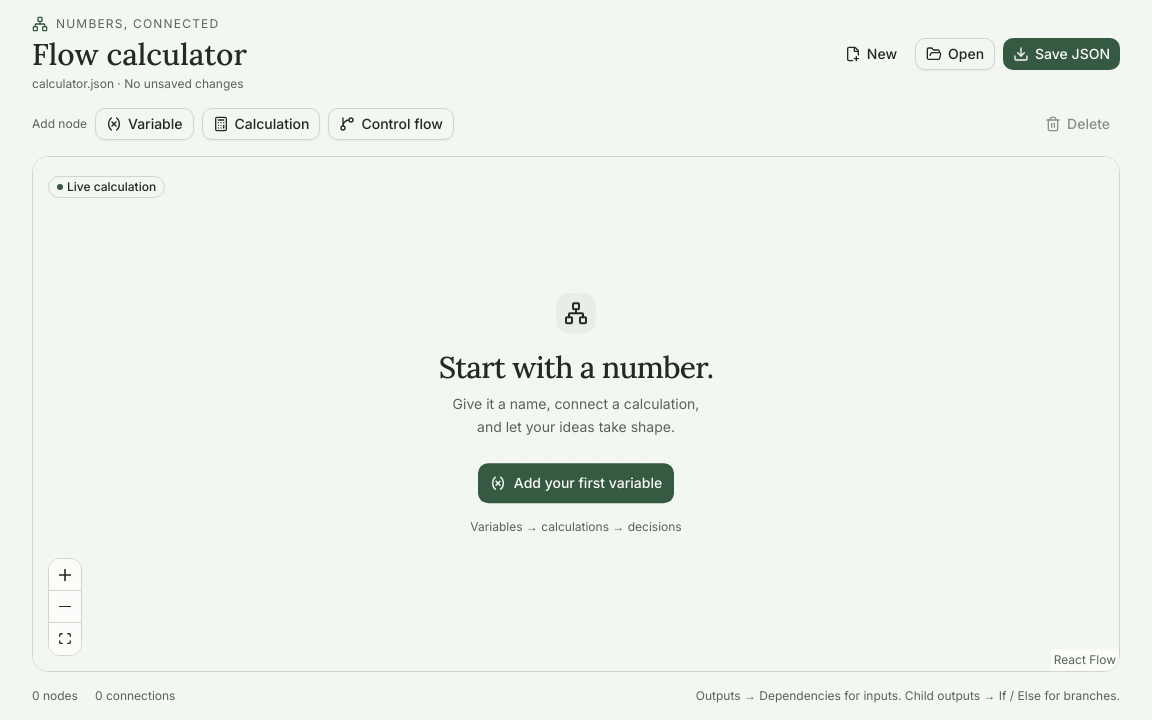
Test case: workspace user flows › offers Cancel, Discard, and Save and continue when creating a new workspace
The width and height of the screenshot is (1152, 720).
Click the button "Variable".
click(144, 124)  # box [95,108,194,140]
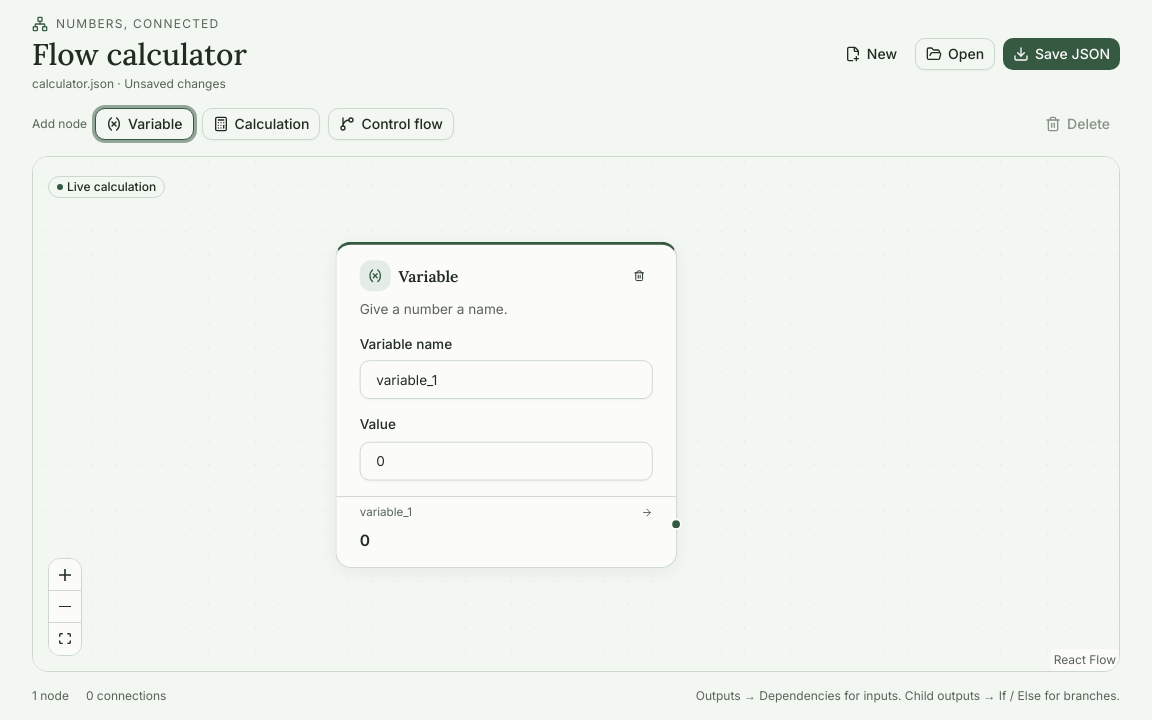
Click the button "New".
click(871, 54)  # box [835,38,907,70]
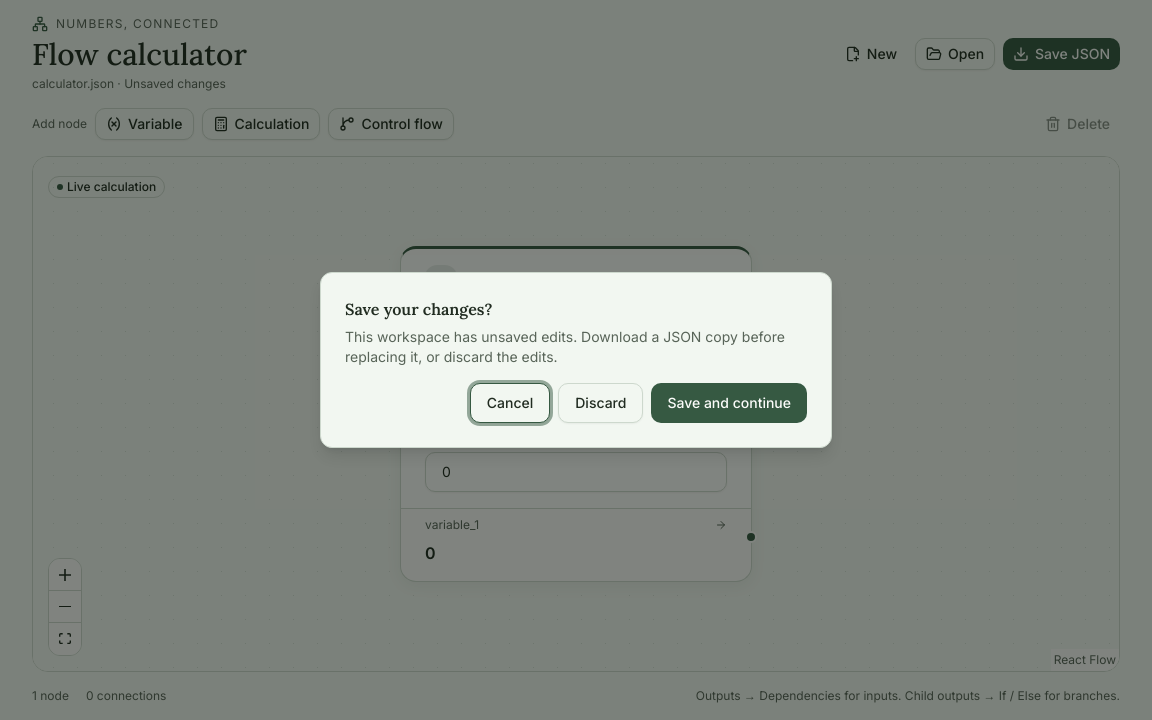
Now the dialog is shown, box [320,272,832,448]
Click the button "Cancel".
click(510, 403)  # box [470,383,550,423]
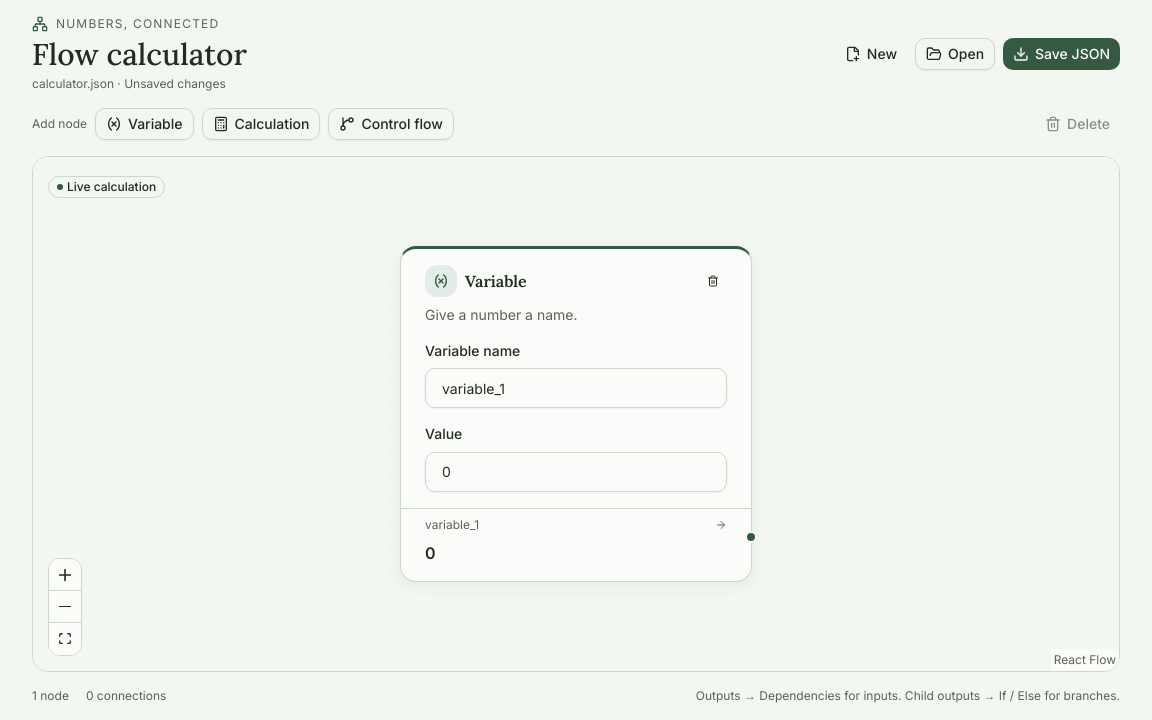
Now the field labelled "Variable name" is shown, box [425,368,727,408]
Click the button "New".
click(871, 54)  # box [835,38,907,70]
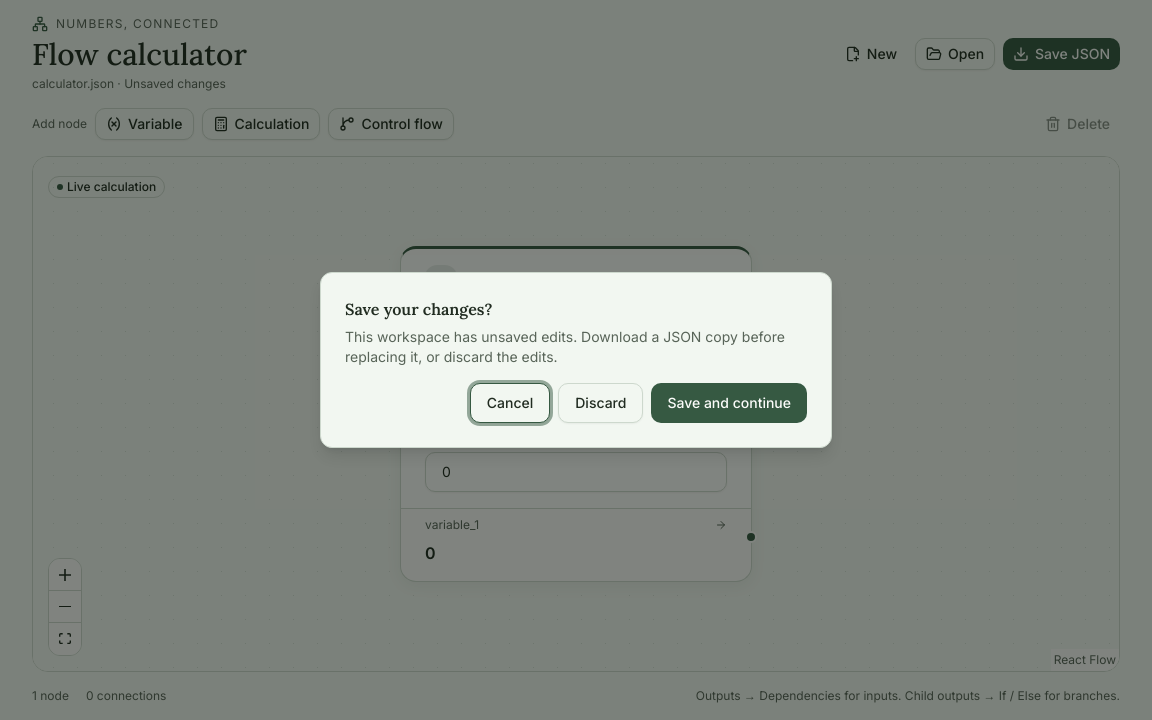
Click the button "Save and continue".
click(729, 403)  # box [651,383,807,423]
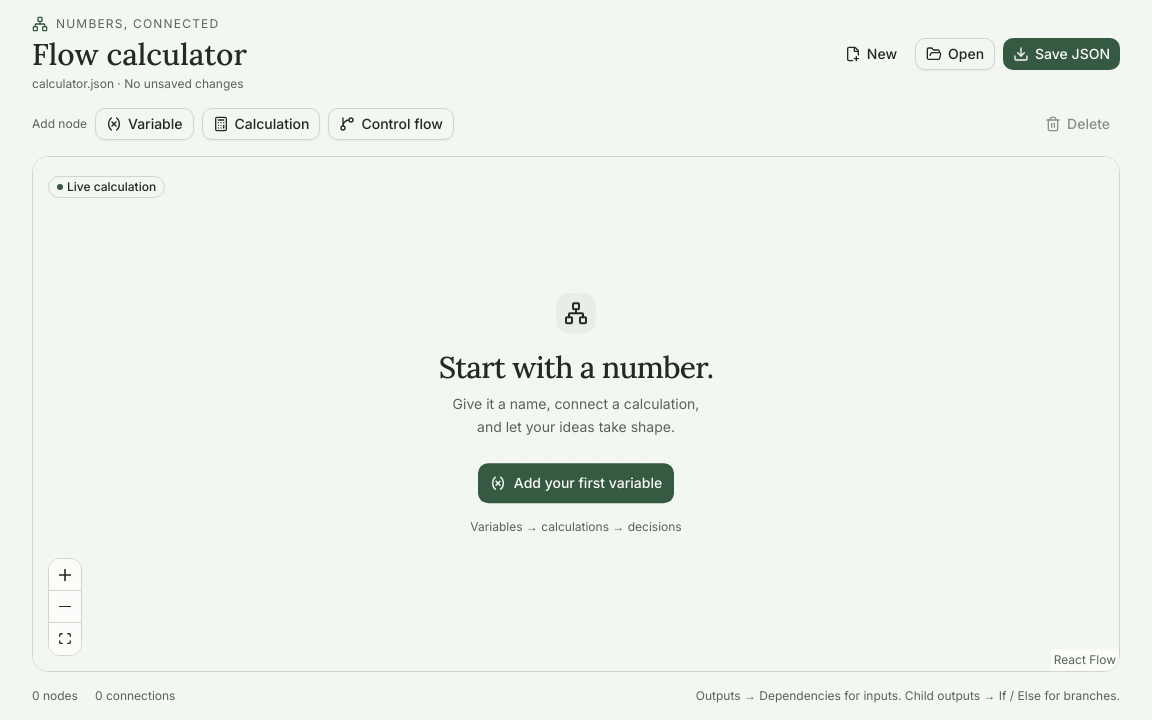
Now the text "Start with a number." is shown, box [439,349,713,385]
